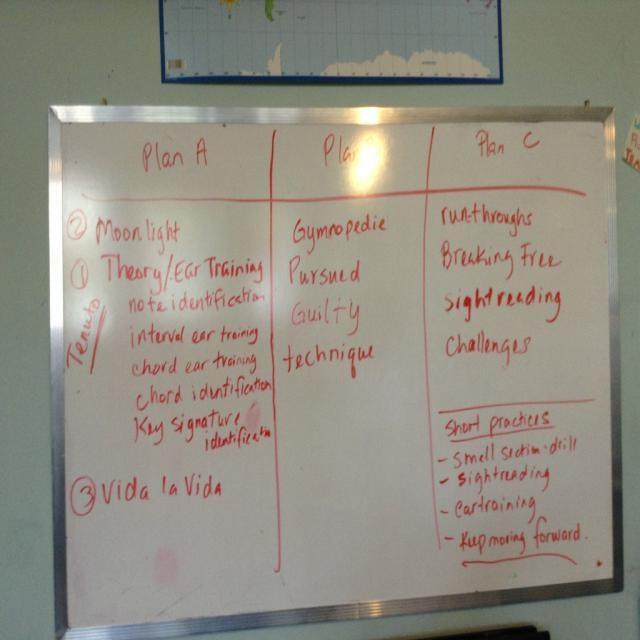Whiteboard: (46, 104, 623, 639)
